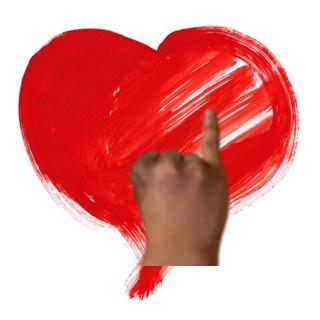FINE: (127, 107, 231, 256)
